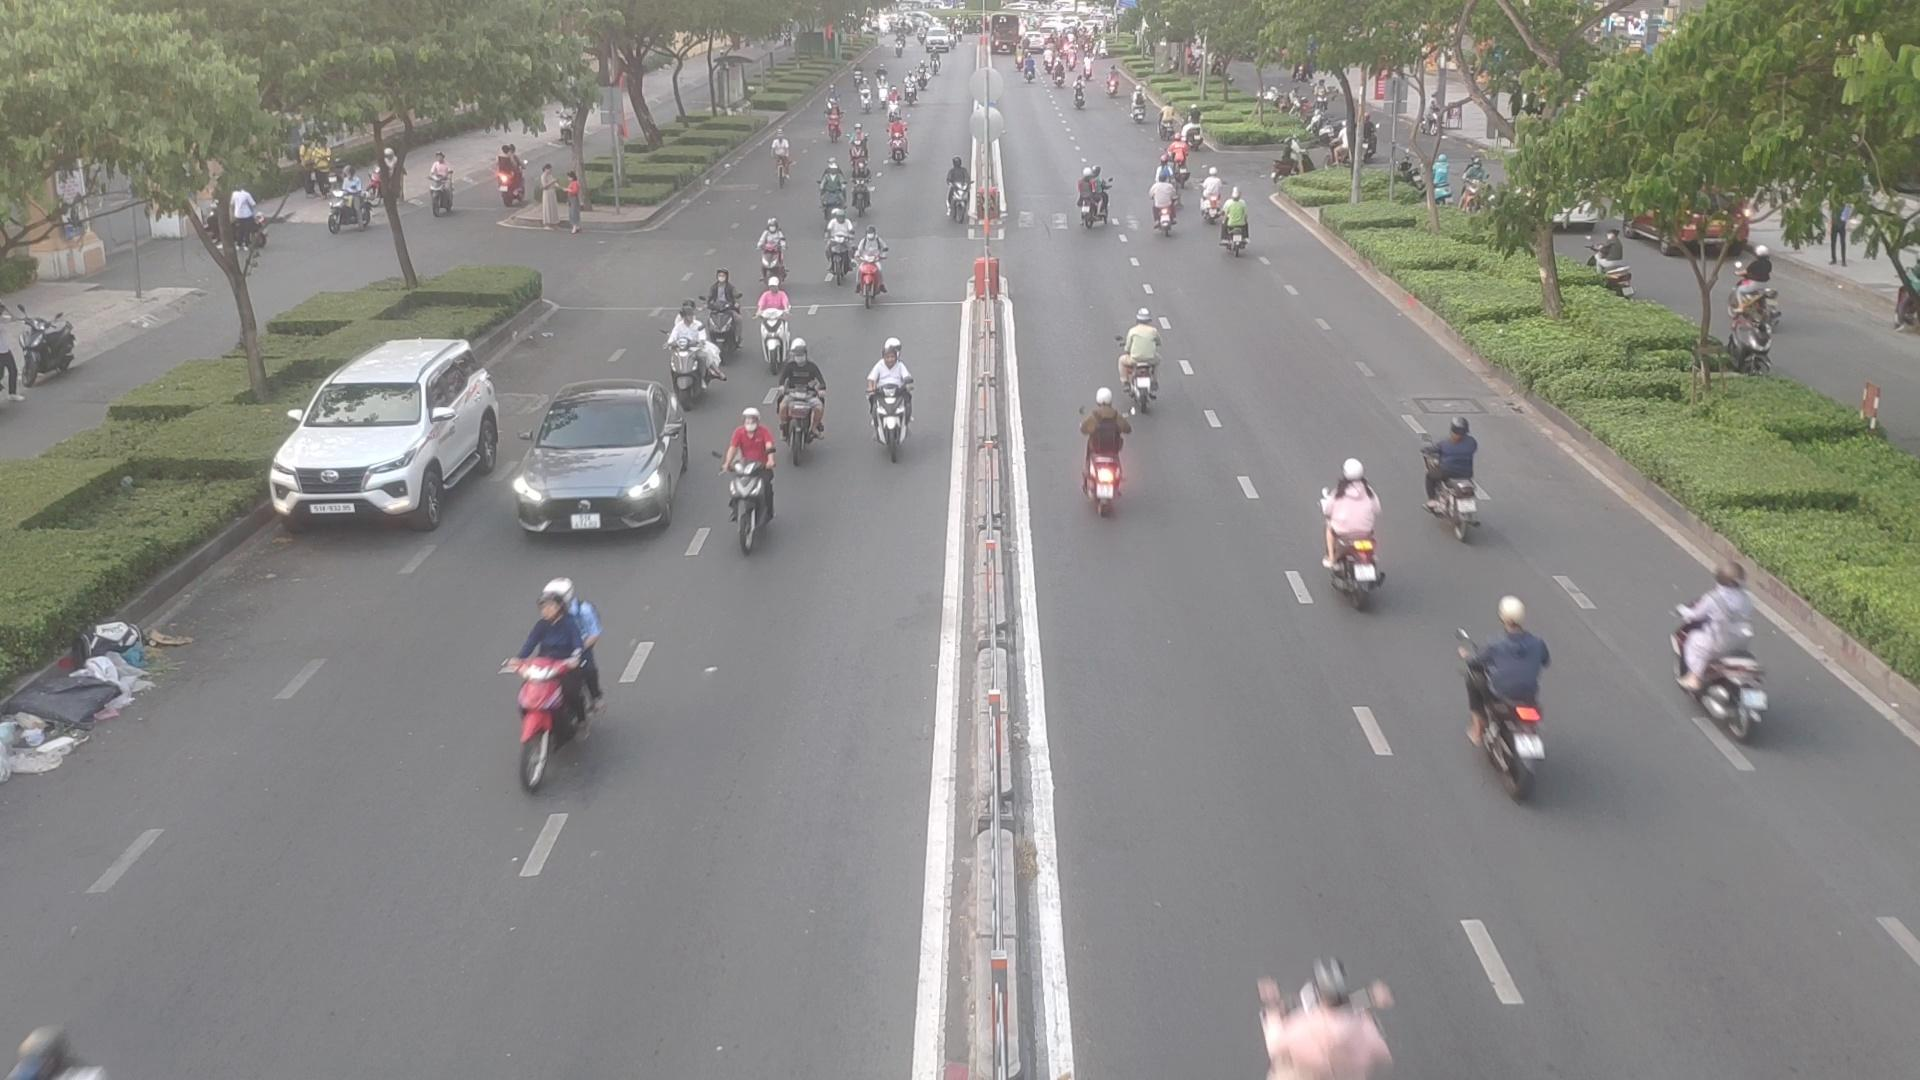car: (270, 339, 516, 531), (513, 384, 694, 535)
motorbike: (498, 589, 618, 778), (1247, 957, 1404, 1077), (1458, 620, 1557, 798), (1672, 575, 1776, 742), (1309, 465, 1381, 596), (1072, 396, 1137, 516), (1425, 417, 1487, 535), (723, 417, 779, 545), (860, 349, 920, 460), (1106, 298, 1164, 409), (665, 322, 717, 402), (785, 340, 818, 464), (699, 270, 746, 347), (851, 236, 893, 309), (1068, 167, 1114, 231), (760, 273, 790, 361), (756, 227, 793, 293), (1218, 196, 1257, 258), (1149, 175, 1182, 233), (828, 206, 851, 277), (822, 161, 847, 224), (851, 164, 880, 216), (943, 156, 964, 222), (1168, 135, 1189, 193), (889, 117, 911, 165), (848, 123, 869, 167), (1197, 167, 1213, 214)
